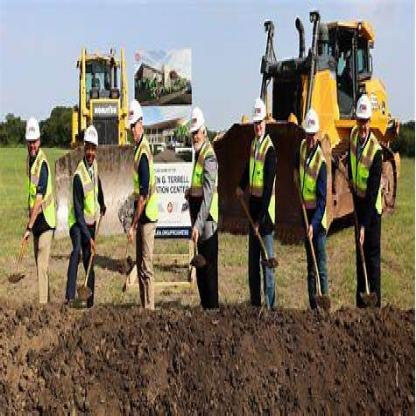person: (183, 92, 229, 348), (124, 85, 168, 350), (15, 99, 61, 334), (66, 91, 110, 334), (245, 89, 286, 339), (347, 71, 384, 329), (296, 96, 330, 339)
